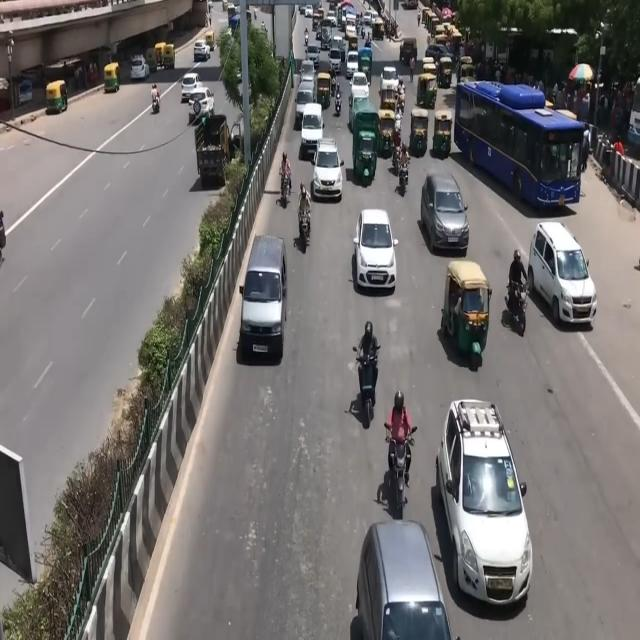auto: (440, 258, 492, 359), (432, 108, 454, 158), (409, 107, 430, 158), (377, 107, 397, 158), (416, 70, 437, 110), (46, 80, 69, 114), (379, 72, 399, 110), (316, 72, 332, 110), (358, 48, 372, 84), (437, 55, 452, 88), (104, 63, 120, 93), (460, 57, 476, 85), (154, 42, 167, 70), (162, 43, 175, 69), (145, 47, 158, 73), (373, 17, 385, 41), (204, 30, 216, 52)
bike-auto: (386, 393, 412, 481), (356, 324, 381, 412), (508, 248, 529, 316), (297, 182, 311, 235), (280, 151, 291, 195), (399, 144, 410, 187), (151, 83, 160, 113), (334, 82, 341, 106)
